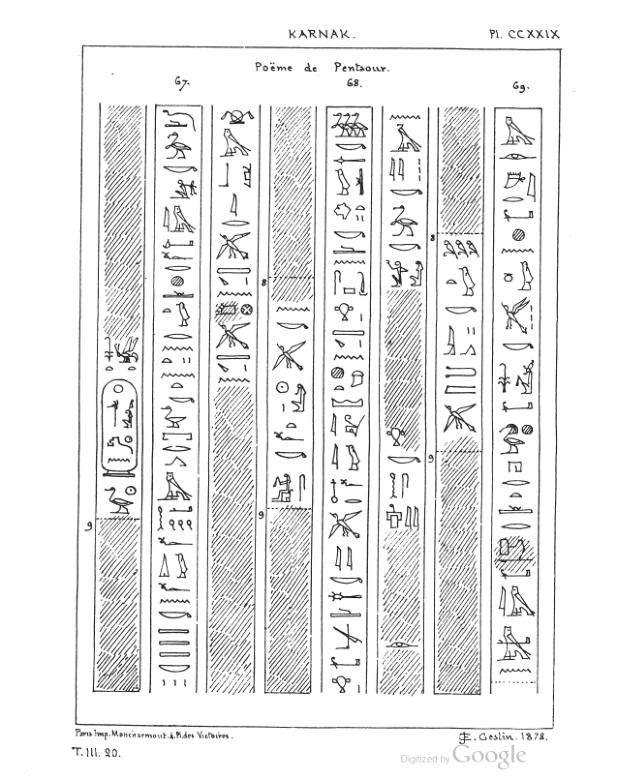circle: (99, 377, 139, 480)
